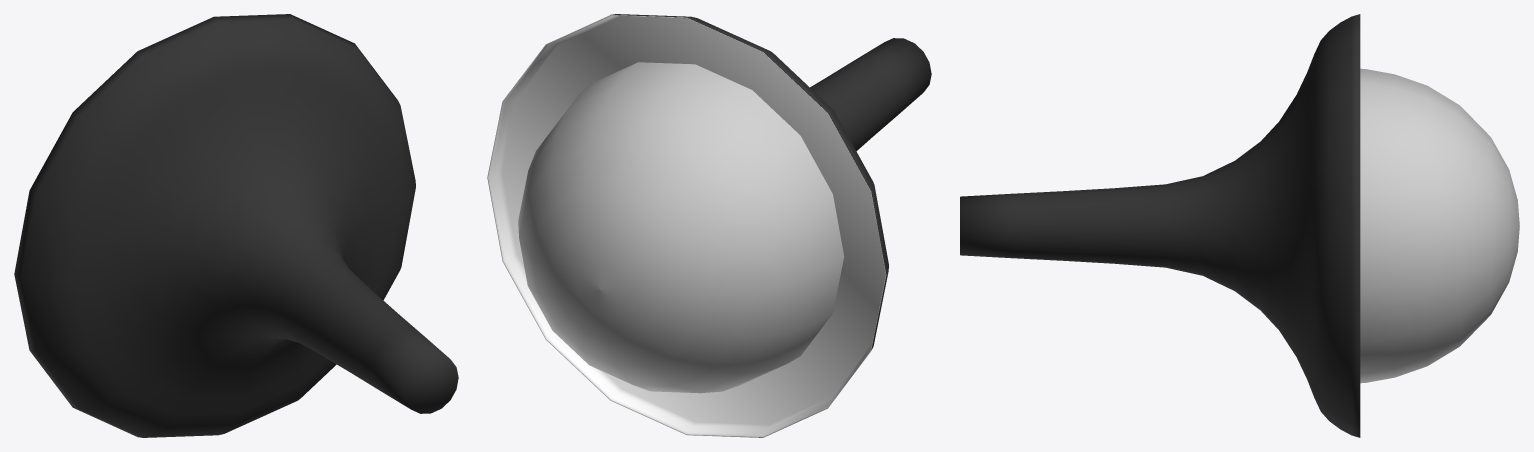
The model's file is Große_Glocke.obj.
The picture shows the model from 3 angles, left to right: view 1: azimuth 30°, elevation 25°; view 2: azimuth 150°, elevation 25°; view 3: azimuth 270°, elevation 25°; orthographic projection. The views are drawn at different scales.
Parts seen in each view (by area): view 1: Große_Glocke_LED_16_Segmente_BezierCurve.009; view 2: Große_Glocke_LED_16_Segmente_Glas_BezierCurve.008, Große_Glocke_LED_16_Segmente_BezierCurve.009; view 3: Große_Glocke_LED_16_Segmente_BezierCurve.009, Große_Glocke_LED_16_Segmente_Glas_BezierCurve.008.
Boxes of the visible parts, box(x1,y1,x2,y2) form: Große_Glocke_LED_16_Segmente_BezierCurve.009: box(14, 14, 458, 437); Große_Glocke_LED_16_Segmente_Glas_BezierCurve.008: box(518, 62, 844, 393); Große_Glocke_LED_16_Segmente_BezierCurve.009: box(487, 14, 931, 437); Große_Glocke_LED_16_Segmente_BezierCurve.009: box(960, 14, 1360, 437); Große_Glocke_LED_16_Segmente_Glas_BezierCurve.008: box(1360, 68, 1519, 383).
Bounding box in the file's own units: 0.5304 × 0.5304 × 0.6995.
Materials: 6 (4 with a texture image).
